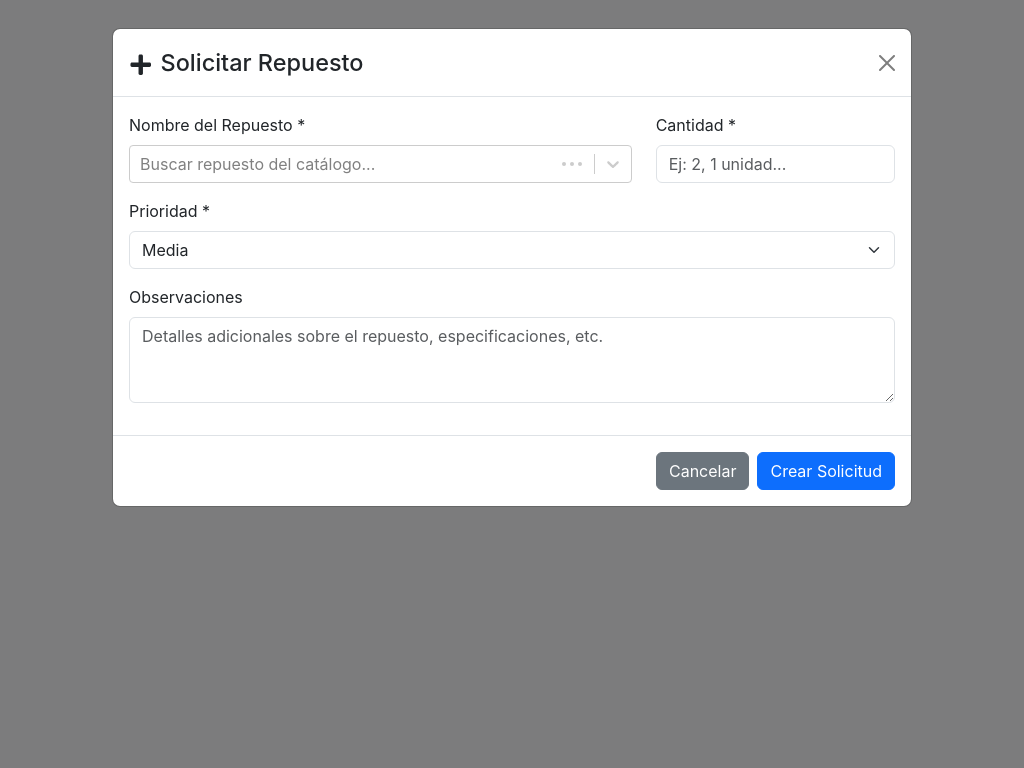
Scenario: SolicitarRepuestoModal › creating a new part selects it and keeps the other request fields
The width and height of the screenshot is (1024, 768).
In the field with placeholder "Ej: 2, 1 unidad...": (775, 164) x1=656 y1=145 x2=895 y2=183, type "7"
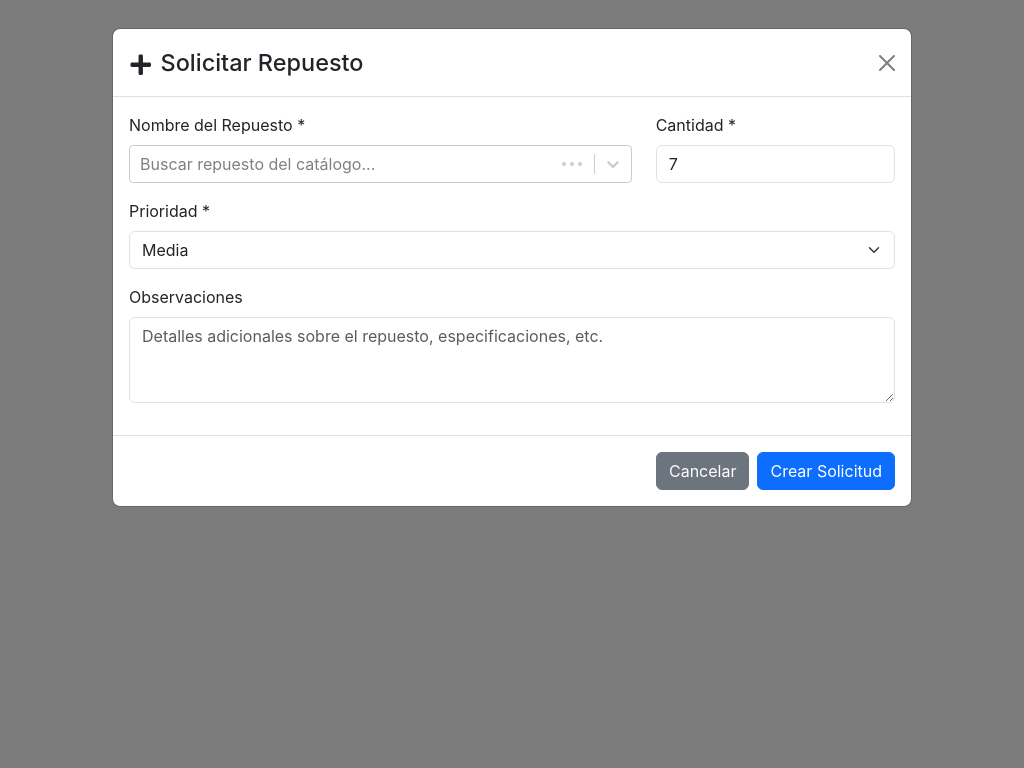
Press ArrowDown in the dropdown named "Nombre del repuesto", box x1=140 y1=152 x2=144 y2=176
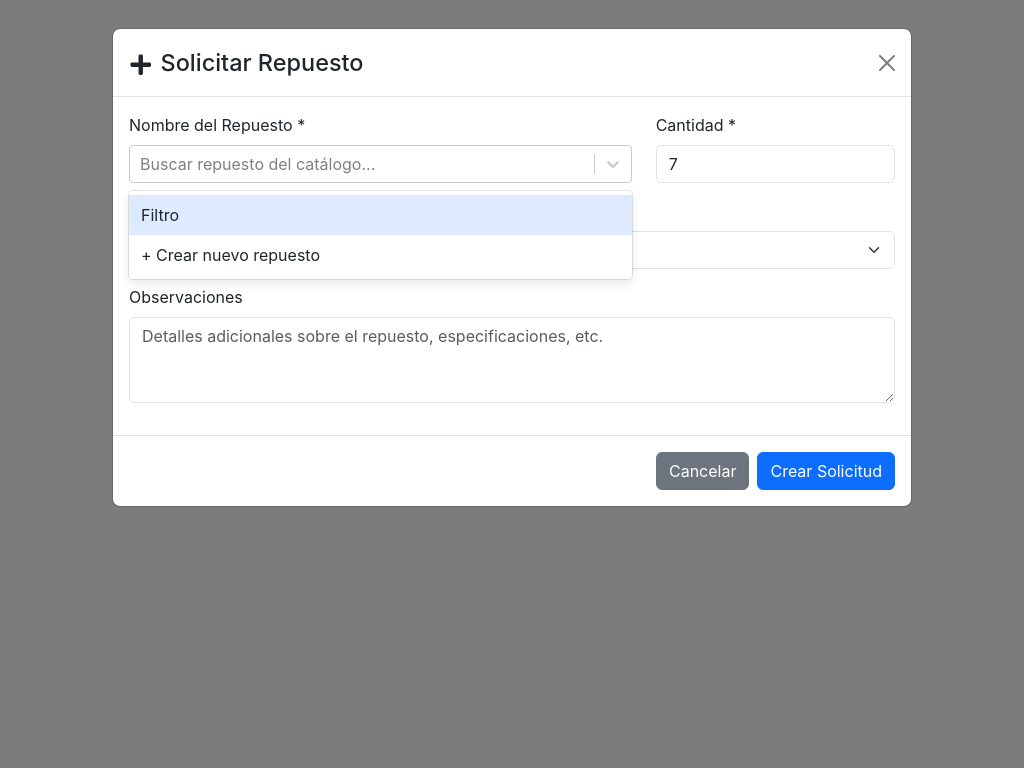
Click the option "+ Crear nuevo repuesto": (230, 255) x1=141 y1=245 x2=320 y2=265
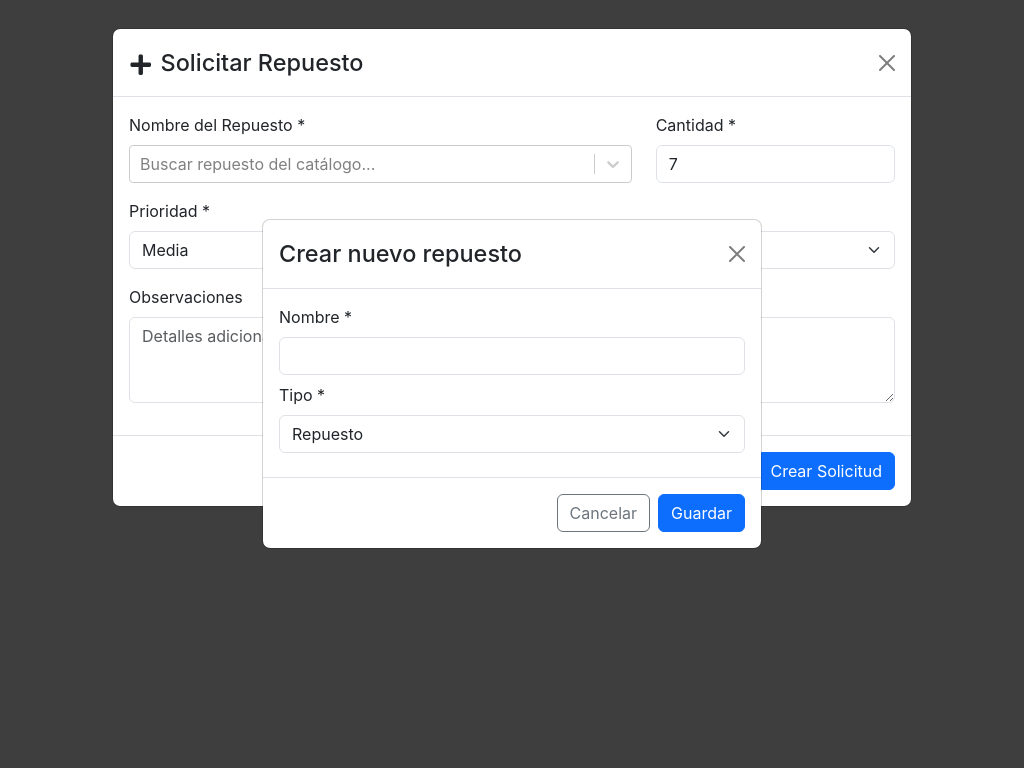
In the field labelled "Nombre *": (512, 356) x1=279 y1=337 x2=745 y2=375, type "Banda nueva"
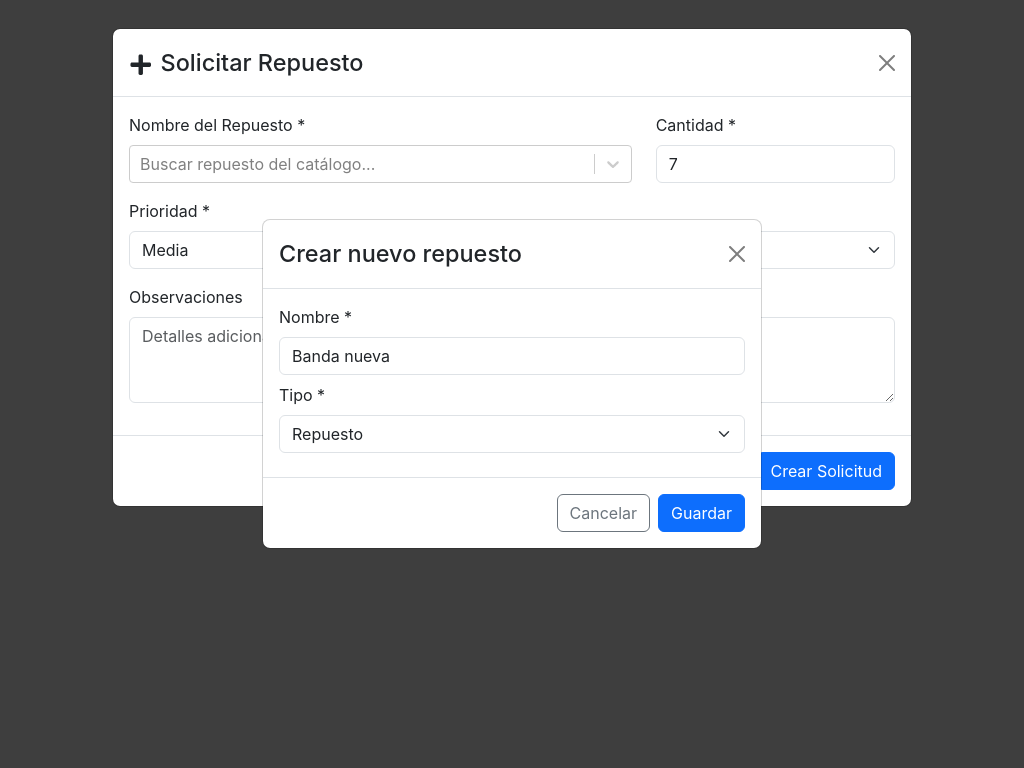
Select "Accesorio" in the dropdown labelled "Tipo *": (512, 434) x1=279 y1=415 x2=745 y2=453
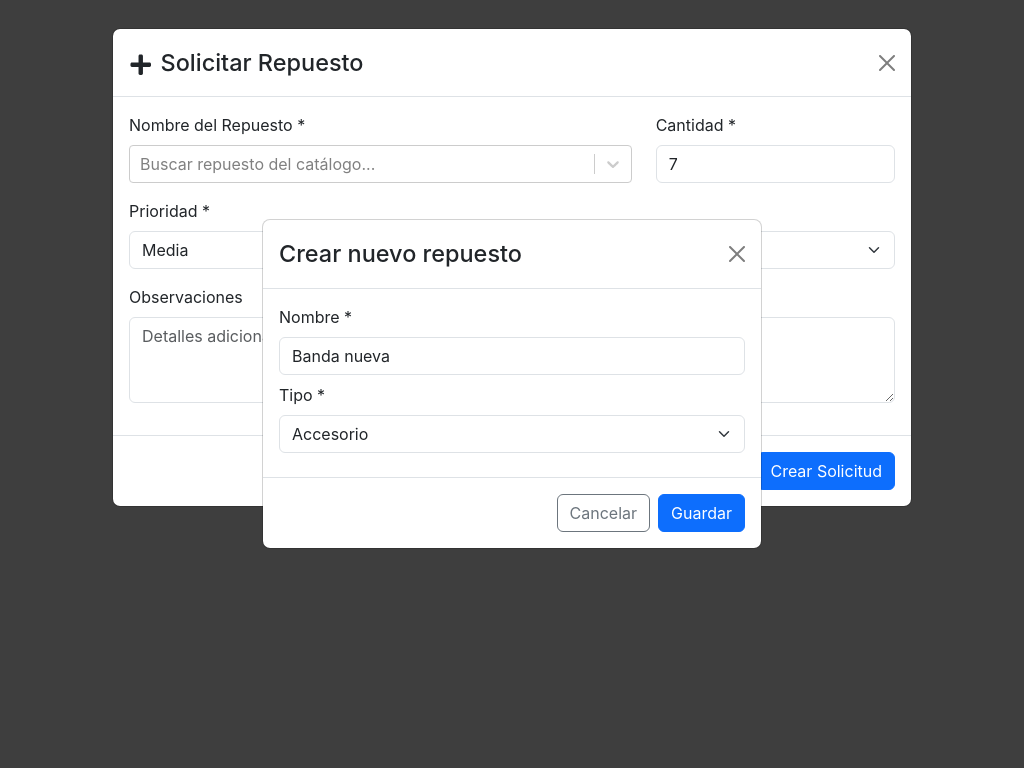
Click the button "Guardar": (702, 513) x1=658 y1=494 x2=745 y2=532
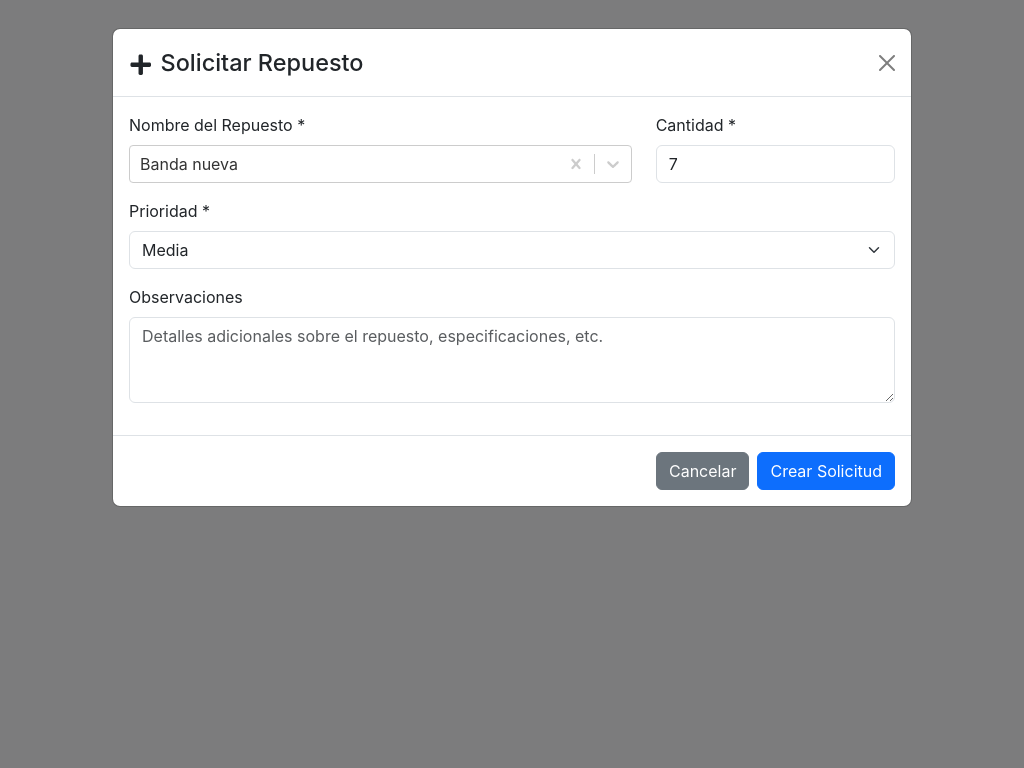
Expected: the text "Banda nueva" is shown, x1=140 y1=154 x2=238 y2=174
